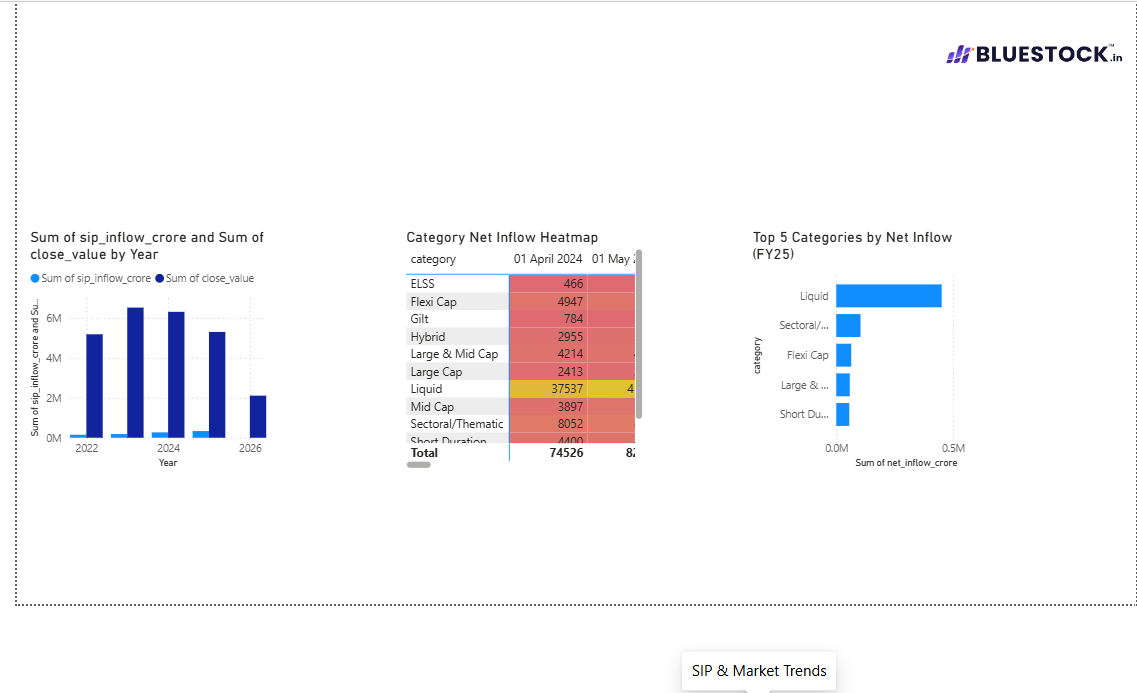

The dashboard page shown, as its layout file describes it:
{"tool":"powerbi","page":{"name":"SIP & Market Trends","canvas":[1280,720],"ordinal":3},"visuals":[{"type":"pivotTable","title":"Category Net Inflow Heatmap","fields":{"Rows":["CategoryInflows.category"],"Columns":["CategoryInflows.month"],"Values":["Sum(CategoryInflows.net_inflow_crore)"]},"box":[440,290,280,280],"z":0},{"type":"lineClusteredColumnComboChart","fields":{"Category":["DateTable.Date.Variation.Date Hierarchy.Year","DateTable.Date.Variation.Date Hierarchy.Quarter","DateTable.Date.Variation.Date Hierarchy.Month","DateTable.Date.Variation.Date Hierarchy.Day"],"Y":["Sum(SIPInflows.sip_inflow_crore)","Sum(BenchmarkIndices.close_value)"]},"box":[10,290,280,280],"z":1000},{"type":"clusteredBarChart","title":"Top 5 Categories by Net Inflow (FY25)","fields":{"Category":["CategoryInflows.category"],"Y":["Sum(CategoryInflows.net_inflow_crore)"]},"box":[835.7,290,280,280],"z":2000},{"type":"image","box":[1061.4,51.4,202.9,78.6],"z":2001}]}

Visuals, with their boxes on the page's 1280x720 design canvas (x1, y1, x2, y2). These are canvas units, not pixel positions in the 1137x693 screenshot, which may show the page scaled, cropped or inside an application window:
"Category Net Inflow Heatmap" pivotTable: <region>440, 290, 720, 570</region>
lineClusteredColumnComboChart - DateTable.Date.Variation.Date Hierarchy.Year x DateTable.Date.Variation.Date Hierarchy.Quarter: <region>10, 290, 290, 570</region>
"Top 5 Categories by Net Inflow (FY25)" clusteredBarChart: <region>836, 290, 1116, 570</region>
image: <region>1061, 51, 1264, 130</region>
